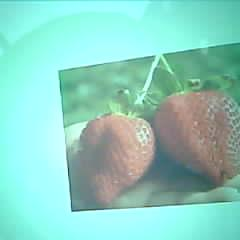straw-ripe: (157, 92, 240, 184), (78, 113, 154, 205)
